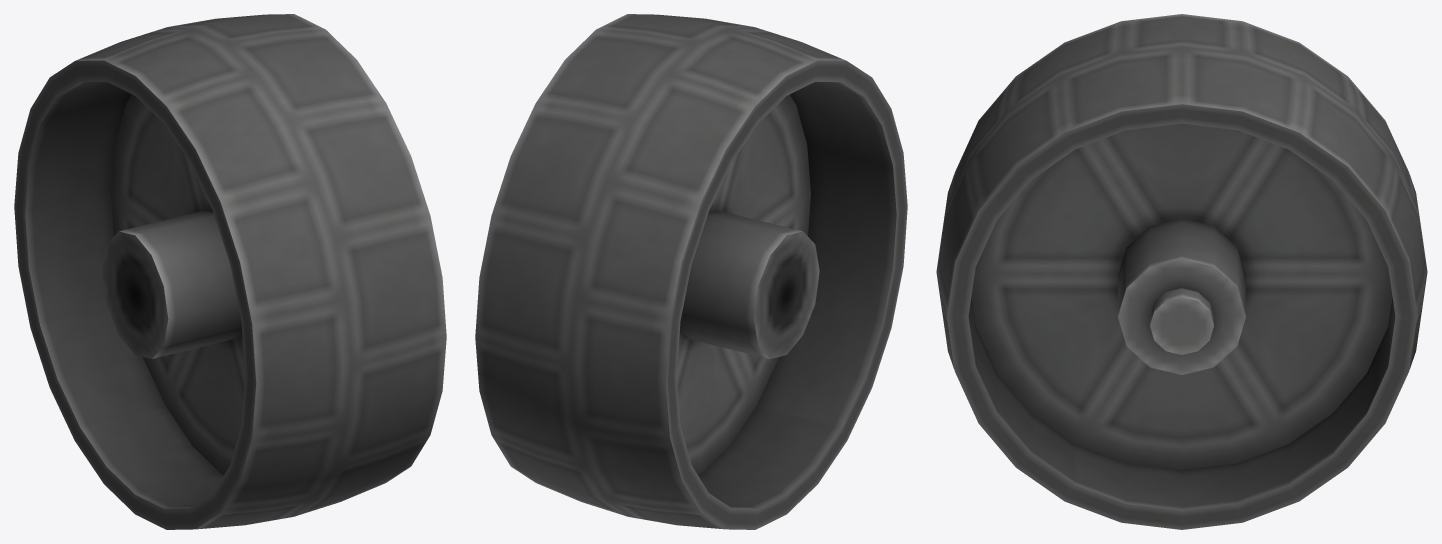
File: ye8_wheel.obj
3 renders of one model, left to right at view 1: azimuth 30°, elevation 25°; view 2: azimuth 150°, elevation 25°; view 3: azimuth 270°, elevation 25°, orthographic. The views are drawn at different scales.
Parts seen in each view (by area): view 1: 1; view 2: 1; view 3: 1.
Part boxes in pixels (x1,y1,x2,y2): 1: [14, 14, 446, 529]; 1: [475, 14, 907, 529]; 1: [936, 14, 1427, 529].
Size of the model in its own units: 0.1375 by 0.2875 by 0.2875.
1 material, 1 textured.
